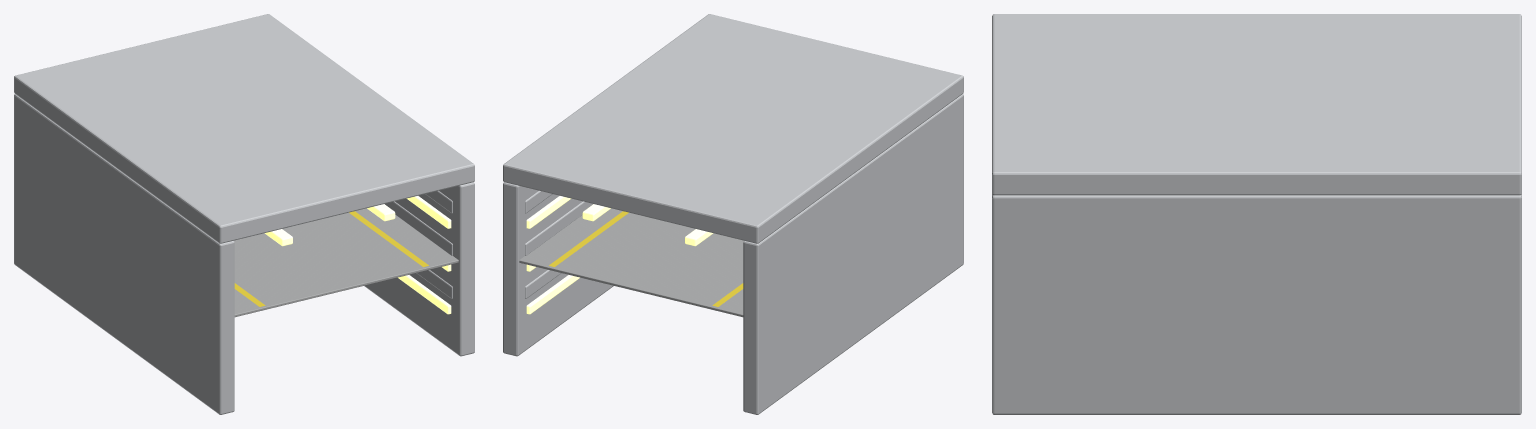
Rendered from btf-inspection-tunnel.glb.
3 views of the same model, side by side, from view 1: azimuth 30°, elevation 25°; view 2: azimuth 150°, elevation 25°; view 3: azimuth 270°, elevation 25° (orthographic). The views are drawn at different scales.
Visible parts, largest first — view 1: 162-final-inspection-light-tunnel/0, 162-final-inspection-light-tunnel/2, 162-final-inspection-light-tunnel/1, 162-final-inspection-light-tunnel/3; view 2: 162-final-inspection-light-tunnel/0, 162-final-inspection-light-tunnel/2, 162-final-inspection-light-tunnel/1, 162-final-inspection-light-tunnel/3; view 3: 162-final-inspection-light-tunnel/0.
Boxes of the visible parts, x1,y1,x2,y2 form: 162-final-inspection-light-tunnel/0: (14,14,474,414); 162-final-inspection-light-tunnel/2: (234,208,458,317); 162-final-inspection-light-tunnel/1: (264,196,451,314); 162-final-inspection-light-tunnel/3: (234,211,428,306); 162-final-inspection-light-tunnel/0: (503,14,963,414); 162-final-inspection-light-tunnel/2: (519,208,743,317); 162-final-inspection-light-tunnel/1: (526,196,713,314); 162-final-inspection-light-tunnel/3: (549,211,743,306); 162-final-inspection-light-tunnel/0: (992,14,1521,414).
Size of the model in its own units: 163842 by 115990 by 229369.
6 materials, 1 textured.
